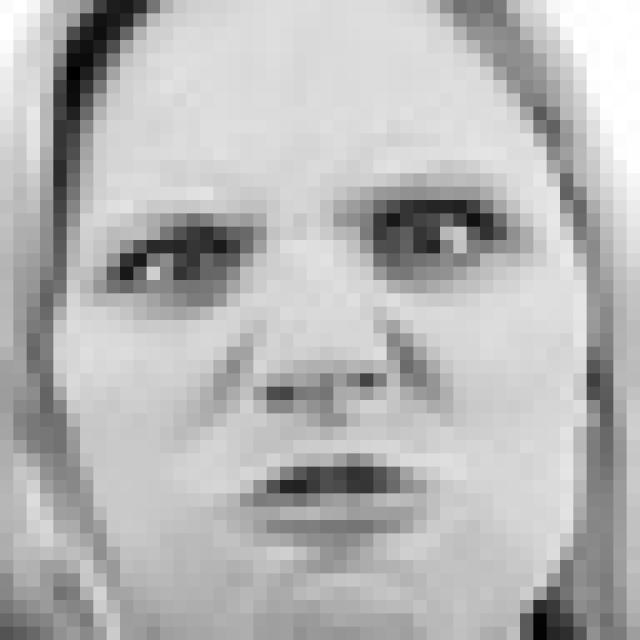angry: (88, 149, 552, 577)
